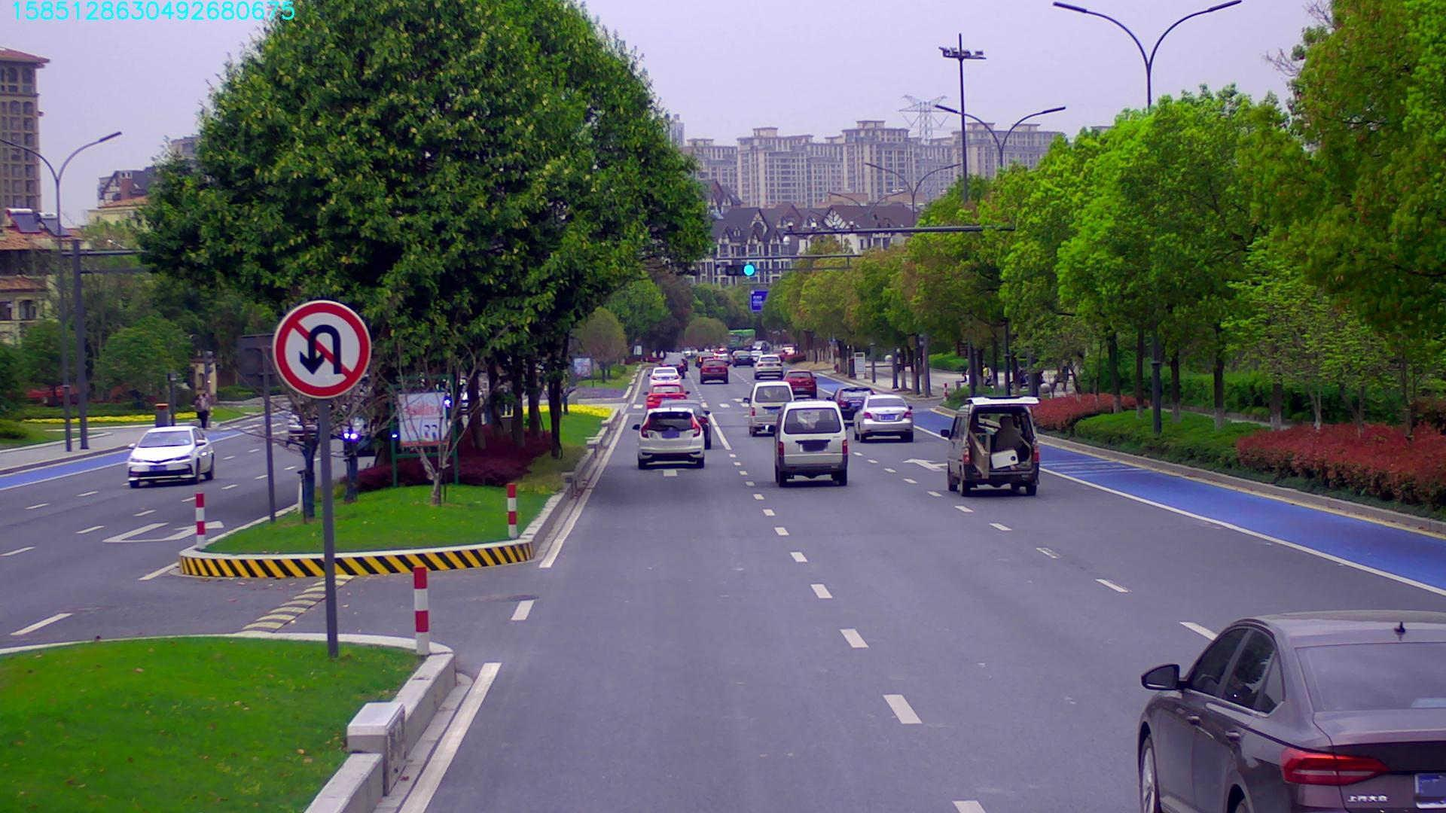green: (724, 260, 755, 273)
